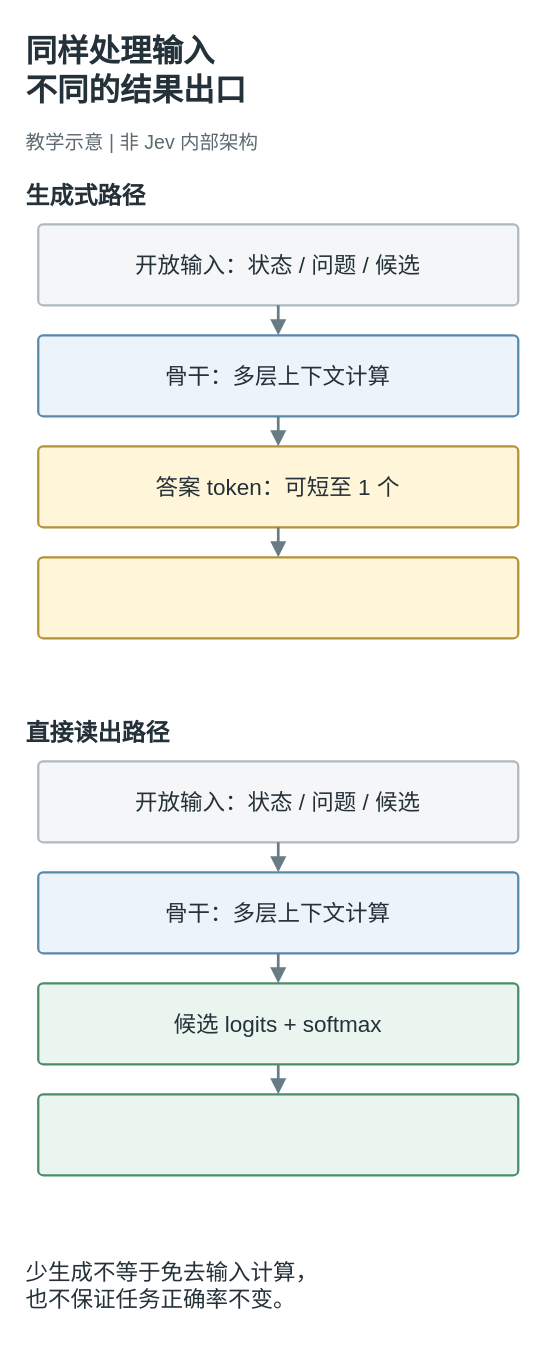
This 555x1353 diagram has some shape labels left out. The box of each missing label's shape, as (x1, y1, x2, y2) in pixels:
程序封装标签与概率: (36, 1092, 519, 1176)
解析 / 映射为结果: (36, 555, 519, 639)
